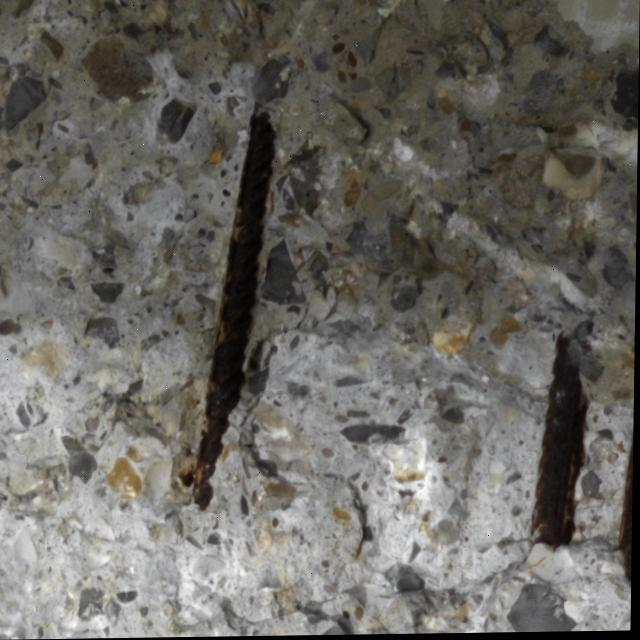D0w0: (194, 118, 277, 489), (538, 358, 586, 549)
